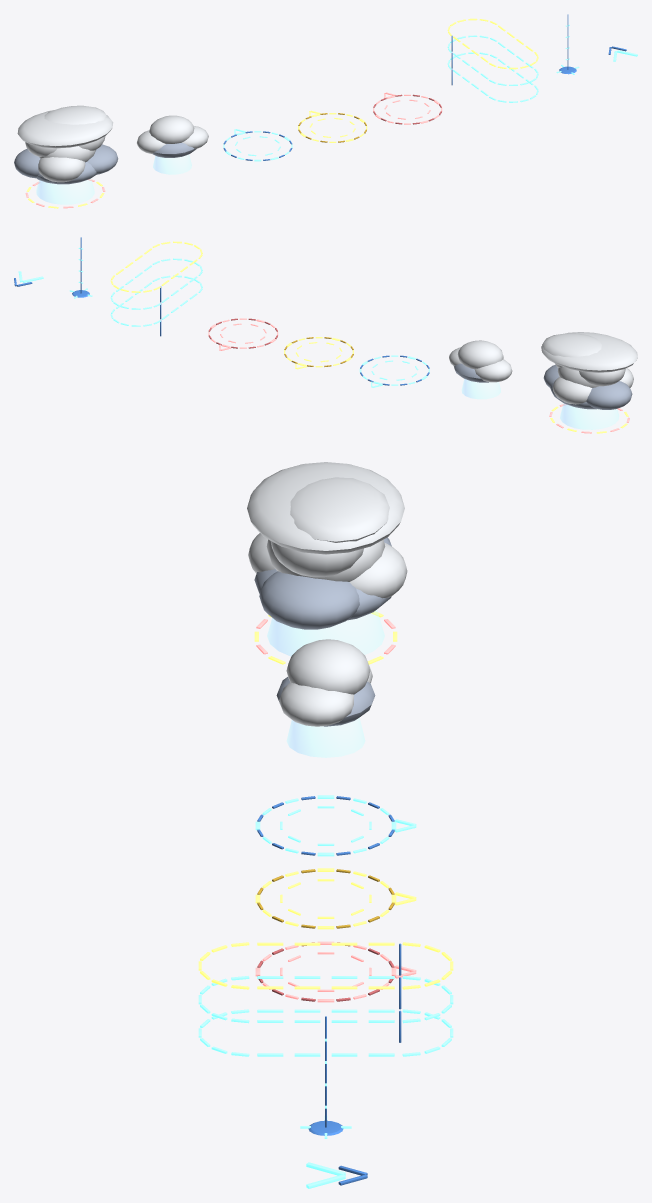
File: airspace_viz.glb
3 renders of one model, top to bottom at view 1: azimuth 30°, elevation 25°; view 2: azimuth 150°, elevation 25°; view 3: azimuth 270°, elevation 25°, orthographic. The views are drawn at different scales.
Visible parts, largest first — view 1: Weather_CB_CloudMass, Storm_Anvil_Swirl, Weather_Mod_CloudMass, Holding_Stack_Mesh, Separation_Ring_Nominal_OuterHalo, Separation_Ring_Red_OuterHalo, Separation_Ring_Amber_OuterHalo; view 2: Weather_CB_CloudMass, Storm_Anvil_Swirl, Weather_Mod_CloudMass, Holding_Stack_Mesh, Separation_Ring_Red_OuterHalo, Separation_Ring_Nominal_OuterHalo, Separation_Ring_Amber_OuterHalo; view 3: Weather_CB_CloudMass, Storm_Anvil_Swirl, Weather_Mod_CloudMass, Holding_Stack_Mesh, Separation_Ring_Nominal_OuterHalo, Separation_Ring_Amber_OuterHalo, Separation_Ring_Red_OuterHalo.
Part boxes in pixels (left/top/right/bottom): Weather_CB_CloudMass: left=14, top=136, right=118, bottom=204; Storm_Anvil_Swirl: left=17, top=105, right=113, bottom=148; Weather_Mod_CloudMass: left=137, top=115, right=208, bottom=174; Holding_Stack_Mesh: left=447, top=18, right=538, bottom=102; Separation_Ring_Nominal_OuterHalo: left=223, top=129, right=292, bottom=161; Separation_Ring_Red_OuterHalo: left=373, top=92, right=442, bottom=124; Separation_Ring_Amber_OuterHalo: left=298, top=110, right=367, bottom=142; Weather_CB_CloudMass: left=543, top=363, right=633, bottom=429; Storm_Anvil_Swirl: left=541, top=332, right=637, bottom=372; Weather_Mod_CloudMass: left=449, top=340, right=512, bottom=398; Holding_Stack_Mesh: left=110, top=241, right=202, bottom=336; Separation_Ring_Red_OuterHalo: left=208, top=318, right=278, bottom=350; Separation_Ring_Nominal_OuterHalo: left=359, top=355, right=429, bottom=387; Separation_Ring_Amber_OuterHalo: left=284, top=337, right=353, bottom=369; Weather_CB_CloudMass: left=248, top=533, right=407, bottom=655; Storm_Anvil_Swirl: left=247, top=462, right=404, bottom=554; Weather_Mod_CloudMass: left=276, top=639, right=375, bottom=757; Holding_Stack_Mesh: left=198, top=942, right=453, bottom=1056; Separation_Ring_Nominal_OuterHalo: left=255, top=795, right=416, bottom=856; Separation_Ring_Amber_OuterHalo: left=255, top=868, right=416, bottom=929; Separation_Ring_Red_OuterHalo: left=255, top=941, right=416, bottom=1002.
Size of the model in its own units: 114 by 14.4 by 20.64.
